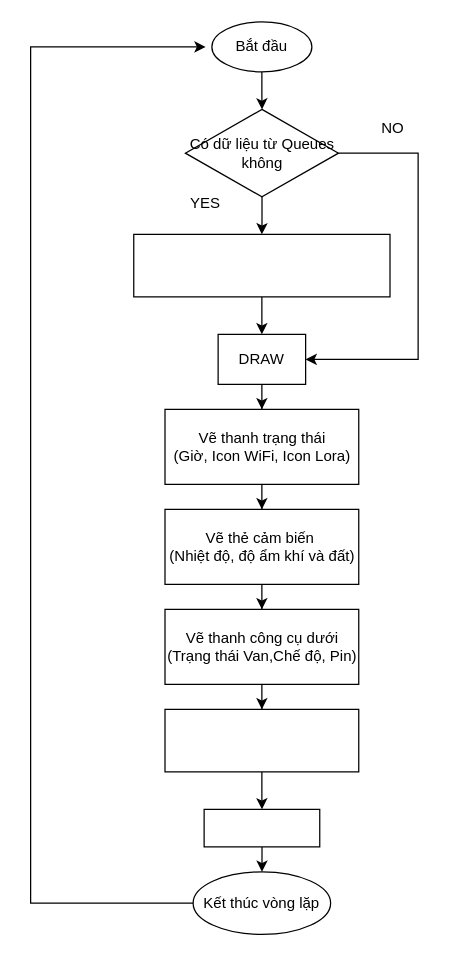
Image size: 453x956. Some labels were removed from this diagram. The shapes that lost their labels are listed below. From the top down, each one's centre as x and y in pixels, then its label:
the point at 261,265: Cập nhật biến dữ liệu (Nhiệt độ, độ ẩm, Trạng thái Van, Phần trăm Pin)
the point at 261,740: Đẩy dữ liệu thay đổi lên màn hình TFT
the point at 261,827: OsDelay (50 ms)
